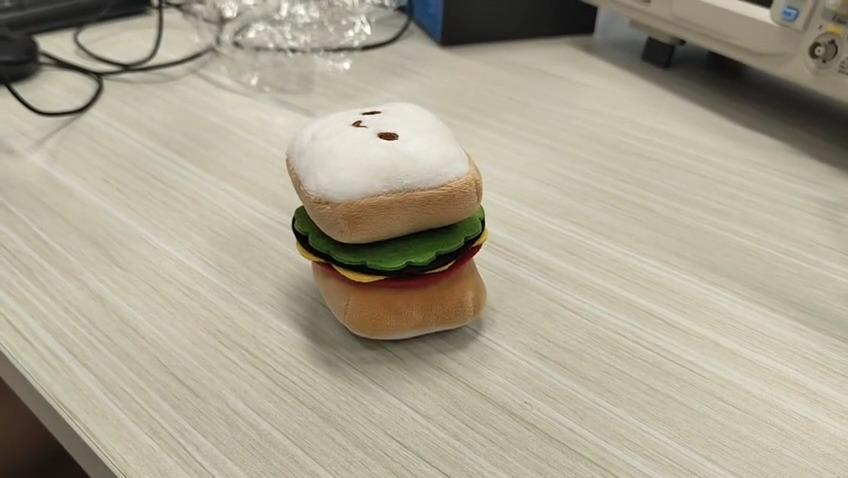objects: (285, 101, 492, 341)
